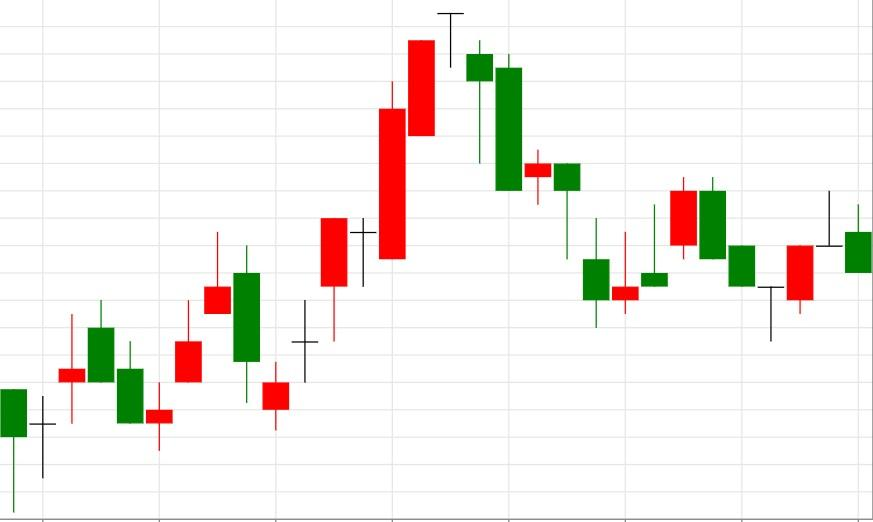bearish_engulfing_fall: (582, 176, 727, 328)
three_white_soldiers_rise: (87, 231, 232, 451)
